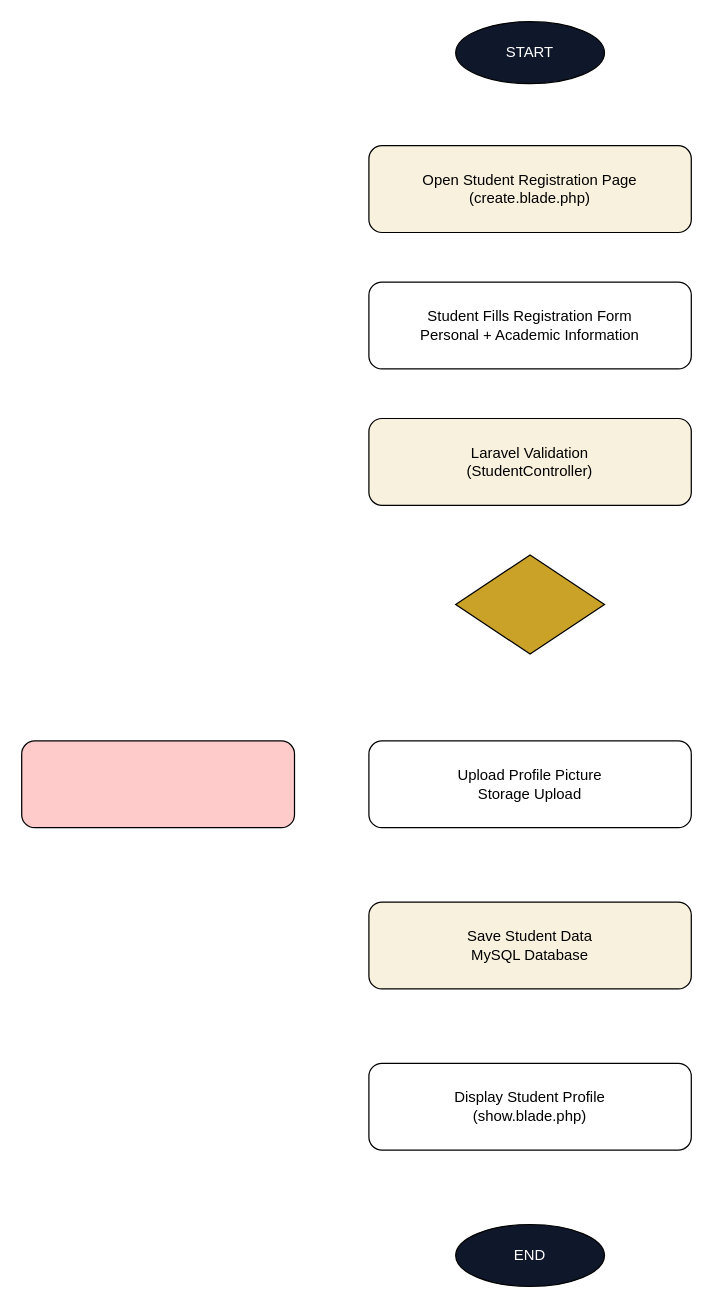
Image size: 713x1308. Some labels were removed from this diagram. Each missing label, with the box of its shape:
Display Validation Errors Return to Form: (20, 740, 294, 828)
Valid Input?: (454, 554, 604, 654)
